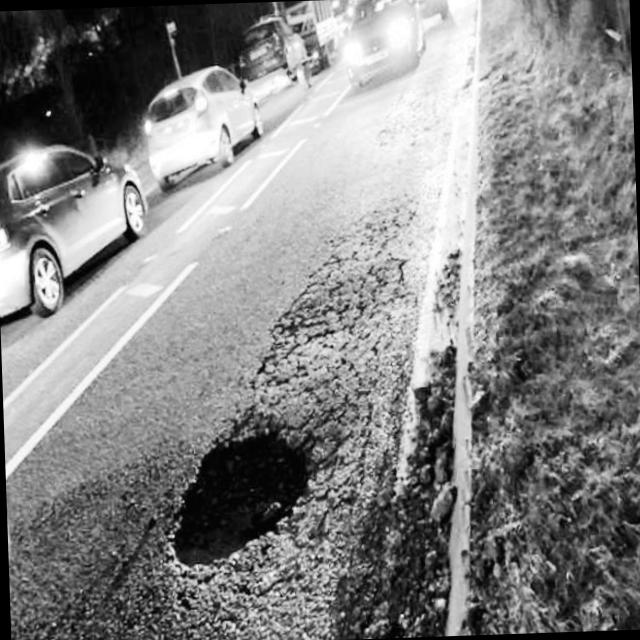Pothole: (157, 406, 336, 583)
